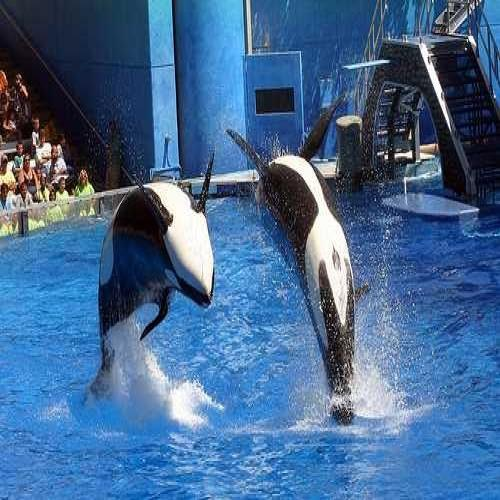killer_whale-endangered: (222, 105, 405, 437), (64, 133, 247, 415)
